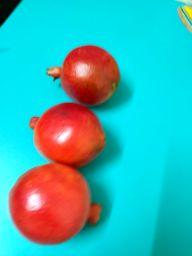pomegranate: (9, 163, 101, 244), (29, 102, 107, 167), (46, 45, 120, 105)
